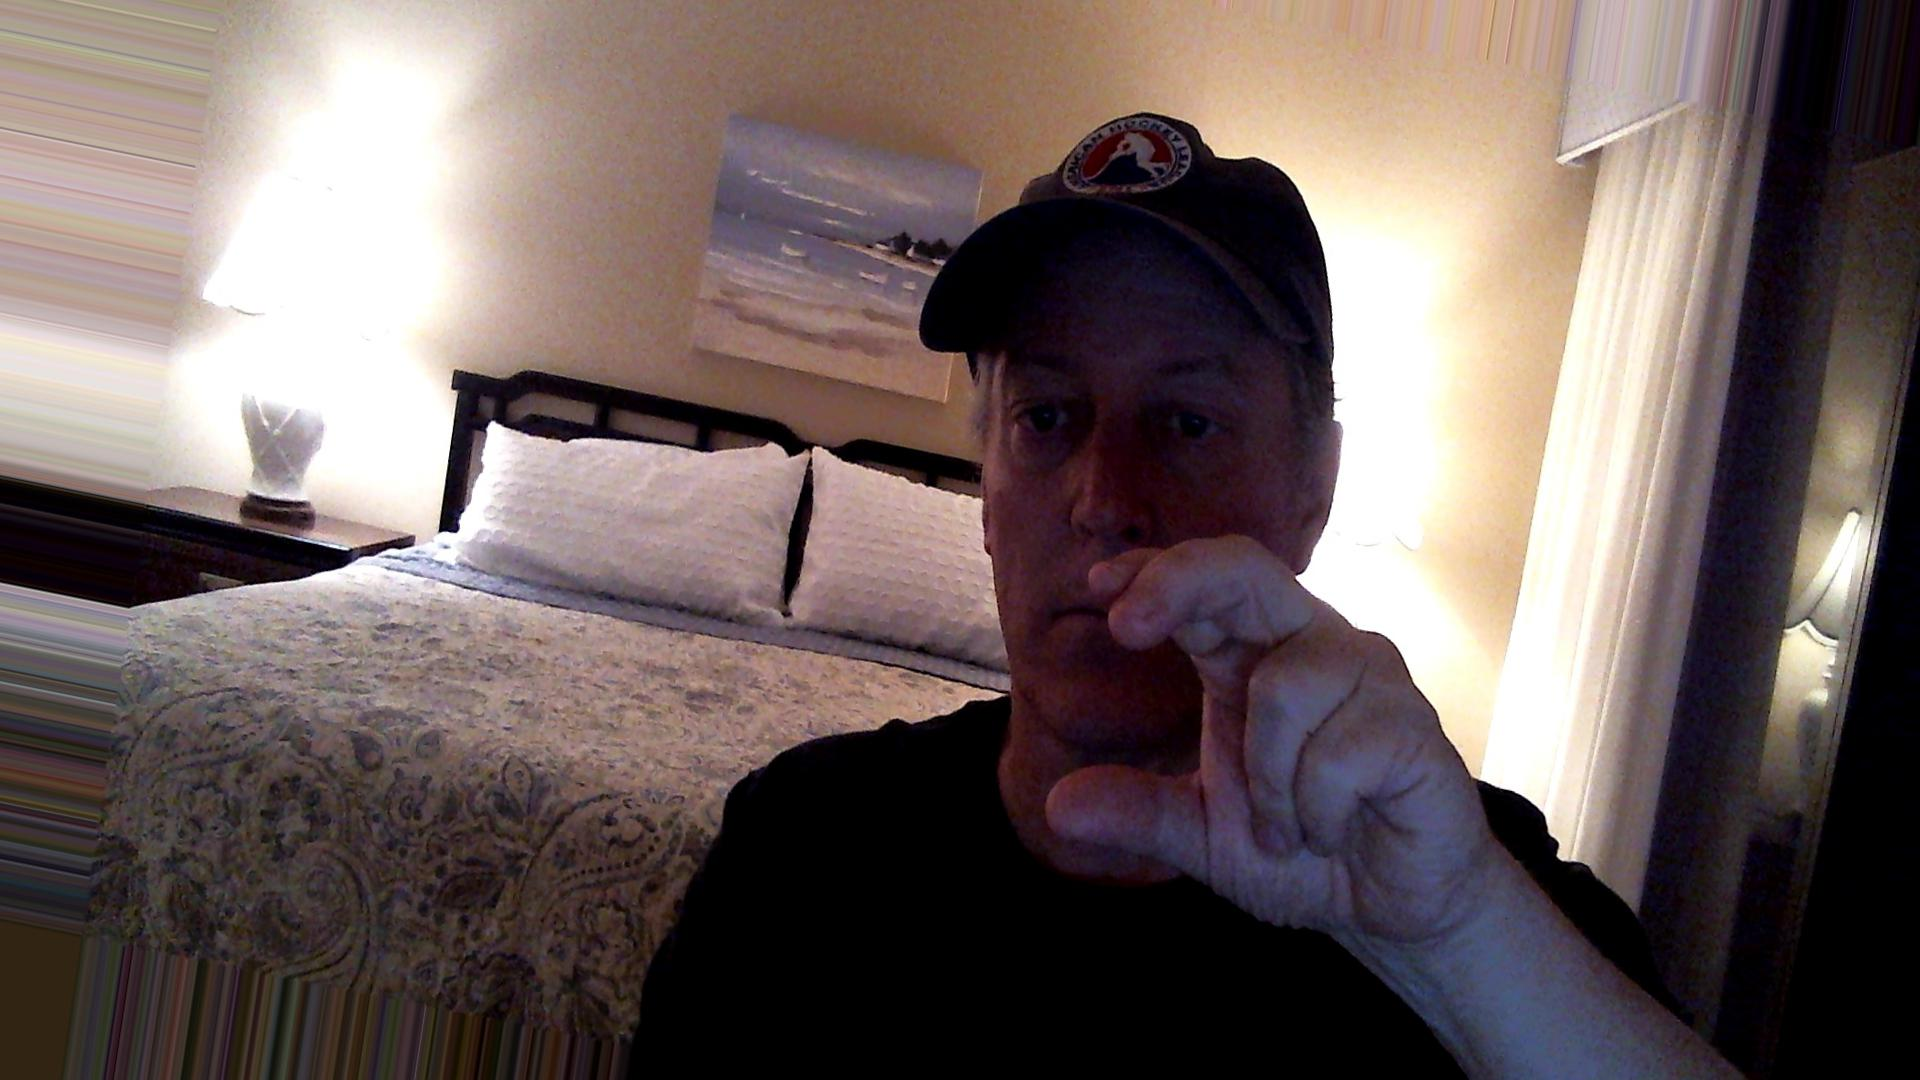No: (1023, 506, 1553, 986)
